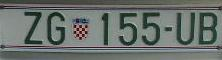-: (164, 25, 173, 33)
1: (101, 11, 109, 46)
5: (142, 11, 162, 46), (119, 11, 138, 46)
B: (198, 11, 217, 45)
G: (46, 11, 66, 46)
U: (176, 10, 196, 45)
Z: (23, 10, 44, 46)
